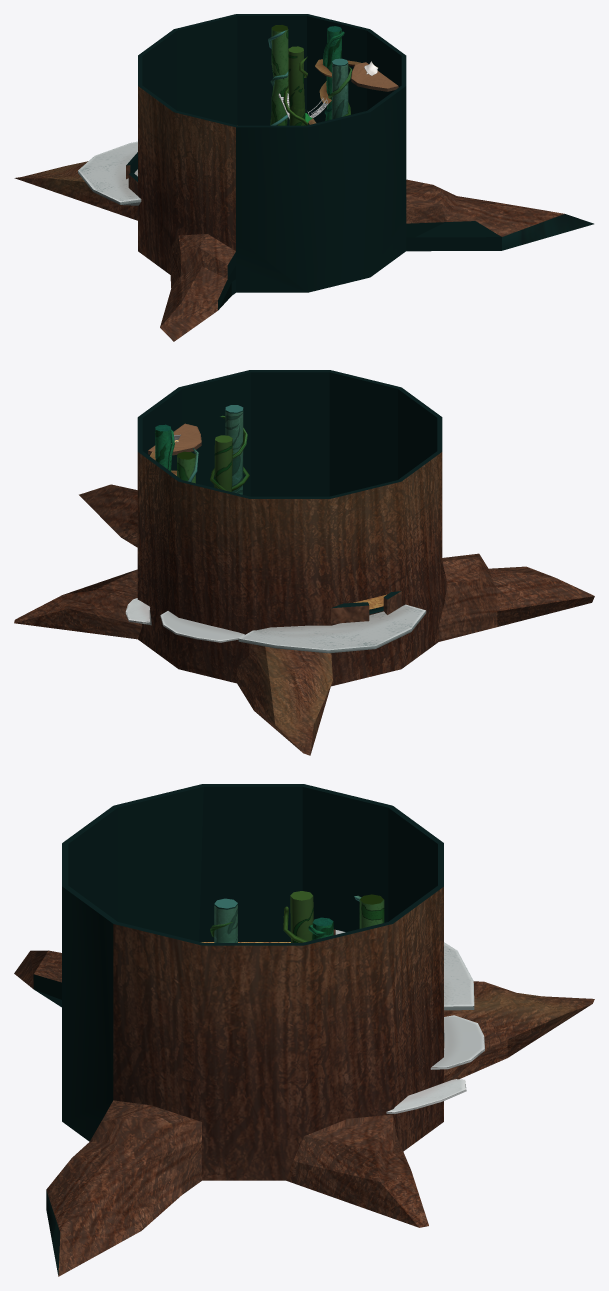
File: boomstronk level.FBX
The picture shows the model from 3 angles, top to bottom: view 1: azimuth 30°, elevation 25°; view 2: azimuth 150°, elevation 25°; view 3: azimuth 270°, elevation 25°; orthographic projection. The views are drawn at different scales.
Parts seen in each view (by area): view 1: boomstronk, paddestoel, liaan4, liaan2, liaan1, hout platformpje, liaan3; view 2: boomstronk, paddestoel, paddestoel003, liaan1, liaan2, hout platformpje, liaan3, paddestoel004; view 3: boomstronk, paddestoel003, paddestoel, paddestoel004, liaan2, liaan1, liaan4.
Part boxes in pixels (x1,y1,x2,y2): boomstronk: (14,14,593,341); paddestoel: (78,141,141,205); liaan4: (270,25,288,125); liaan2: (288,46,305,125); liaan1: (331,58,348,119); hout platformpje: (351,62,398,91); liaan3: (325,26,341,120); boomstronk: (14,370,594,755); paddestoel: (238,604,426,653); paddestoel003: (160,611,244,642); liaan1: (225,405,243,494); liaan2: (214,435,232,491); hout platformpje: (148,423,201,455); liaan3: (155,424,171,471); paddestoel004: (125,598,151,625); boomstronk: (14,784,594,1276); paddestoel003: (430,1015,484,1069); paddestoel: (335,930,474,1010); paddestoel004: (386,1079,466,1113); liaan2: (290,891,313,942); liaan1: (214,898,237,942); liaan4: (359,894,384,928).
Bounding box in the file's own units: 15240 × 5543 × 12108.
